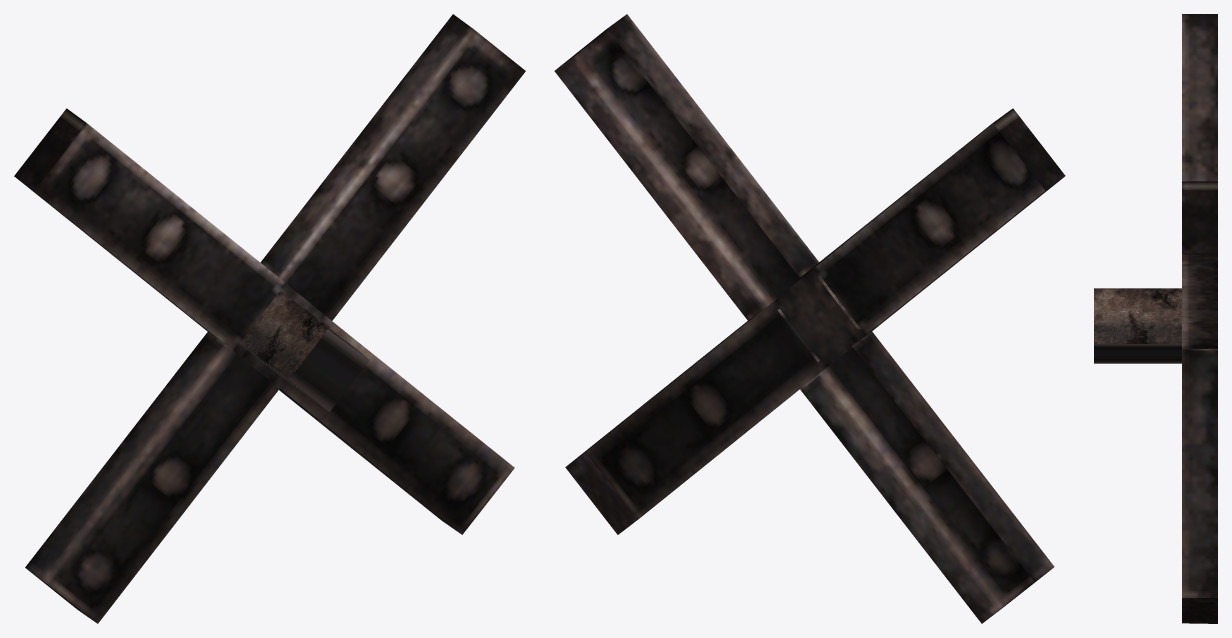
The model's file is cogwheel_wallmount.dae.
3 renders of one model, left to right at view 1: azimuth 30°, elevation 25°; view 2: azimuth 150°, elevation 25°; view 3: azimuth 270°, elevation 25°, orthographic. The views are drawn at different scales.
Parts seen in each view (by area): view 1: polySurface68; view 2: polySurface68; view 3: polySurface68.
Part boxes in pixels (x1,y1,x2,y2): polySurface68: [14, 14, 525, 623]; polySurface68: [554, 14, 1065, 623]; polySurface68: [1094, 14, 1217, 623].
Bounding box in the file's own units: 1.12 × 1.1 × 0.2755.
